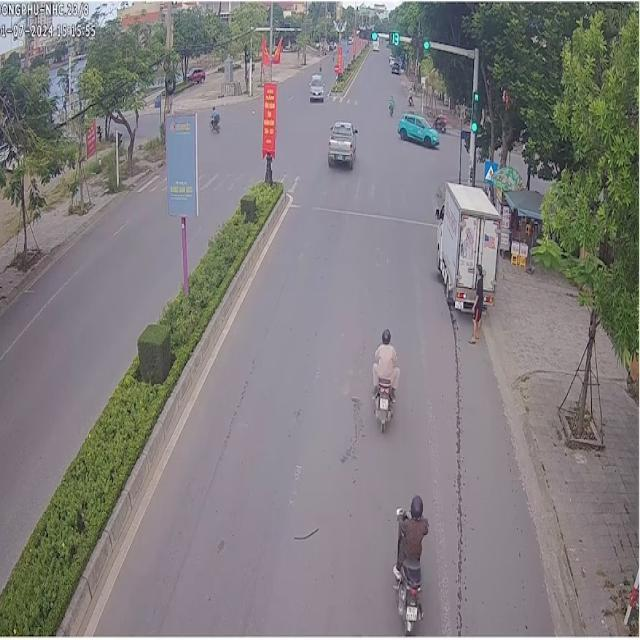car: (433, 180, 498, 310), (326, 119, 356, 166), (396, 112, 438, 145), (309, 73, 323, 100)
green_light: (471, 90, 479, 136), (357, 27, 377, 42), (409, 37, 429, 50), (387, 30, 399, 48)
motobike: (390, 494, 427, 632), (370, 327, 398, 429), (208, 103, 218, 131), (387, 92, 393, 113)
stop_line: (285, 201, 433, 225)
